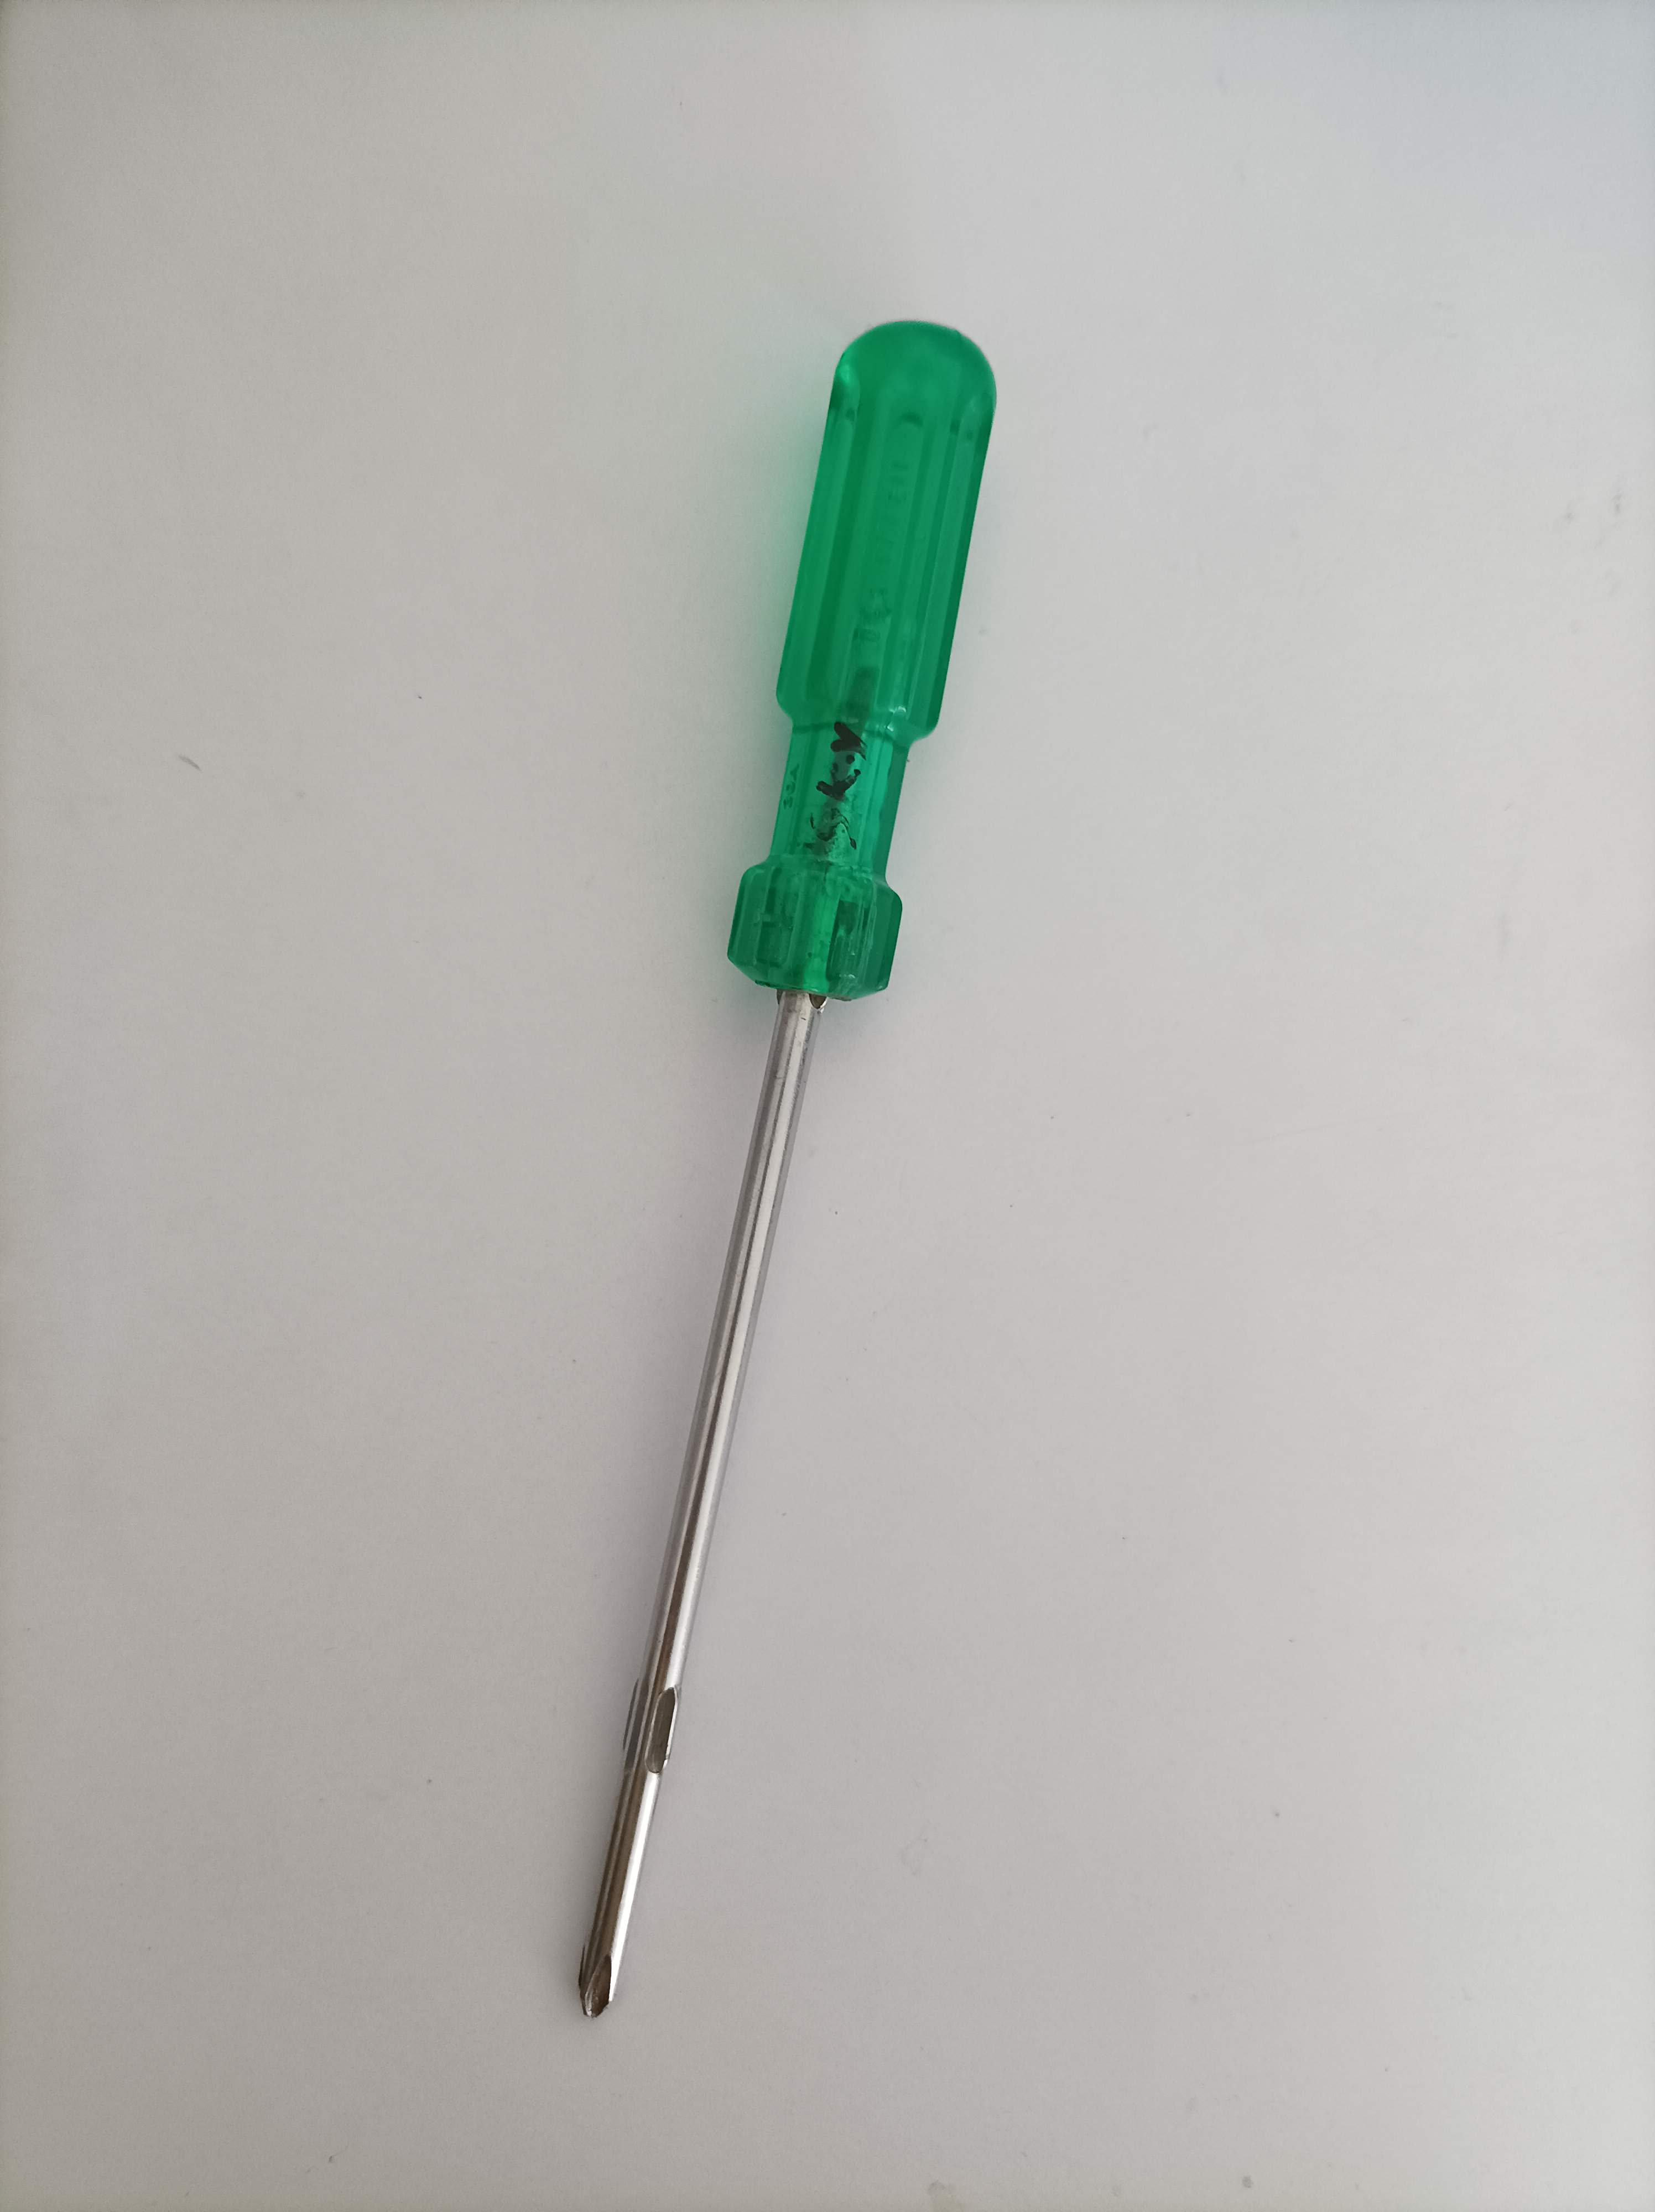screwdriver: (556, 301, 1005, 2035)
